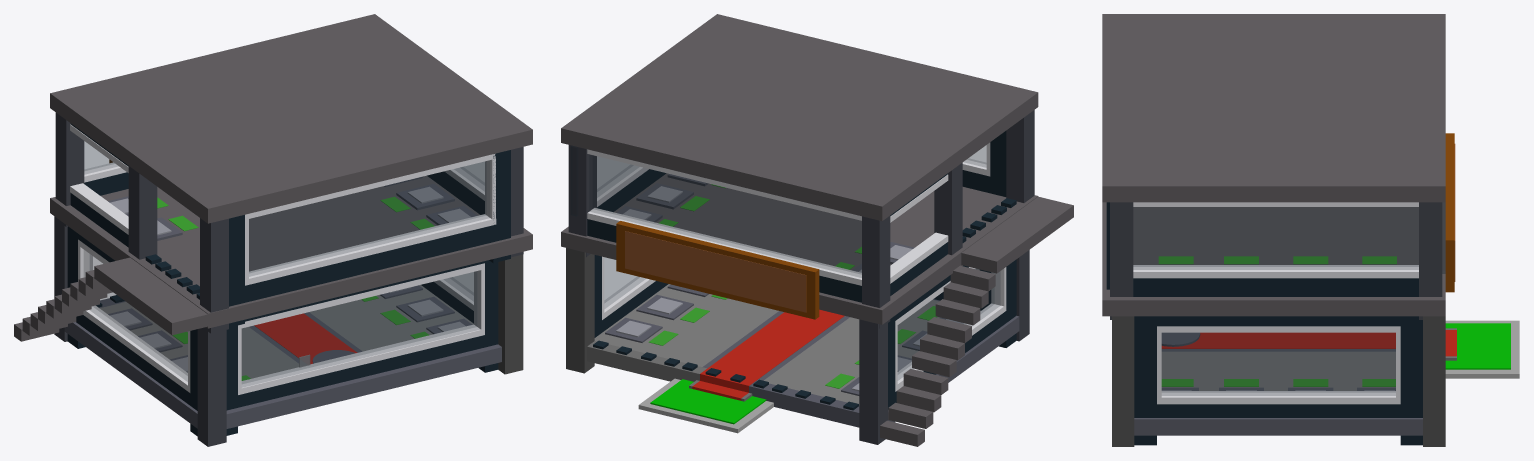
Rendered from house.fbx.
3 views of the same model, side by side, from view 1: azimuth 30°, elevation 25°; view 2: azimuth 150°, elevation 25°; view 3: azimuth 270°, elevation 25° (orthographic). The views are drawn at different scales.
Visible parts, largest first — view 1: house; view 2: house; view 3: house.
Boxes of the visible parts, <box> form: house: <box>14,14,532,446</box>; house: <box>561,14,1073,446</box>; house: <box>1102,14,1519,446</box>.
Bounding box in the file's own units: 7207 × 4625 × 6642.
